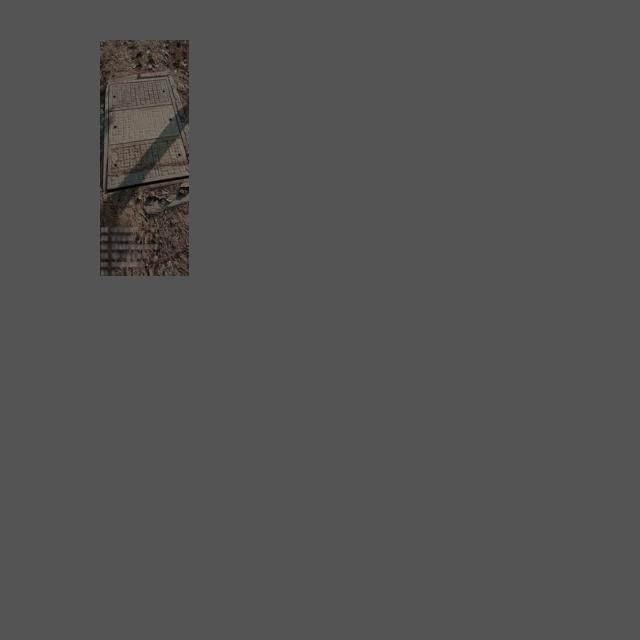circle: (101, 71, 189, 197)
